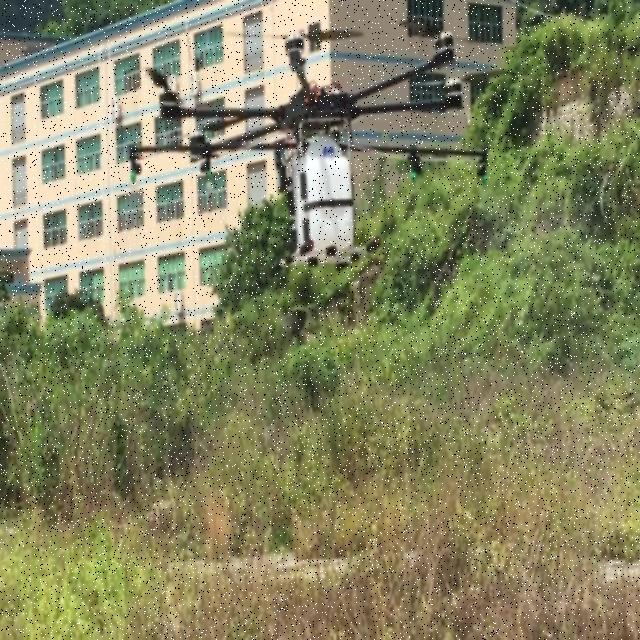UAV: (128, 28, 488, 273)
